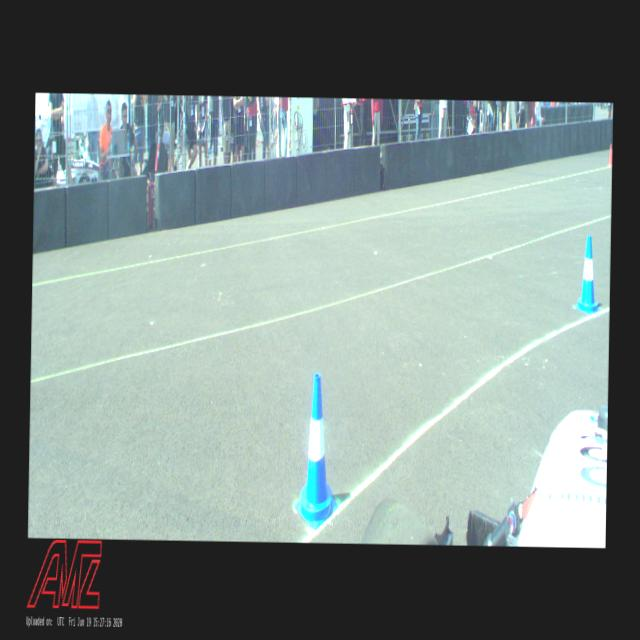blue_cone: (294, 372, 339, 530), (574, 234, 602, 314)
